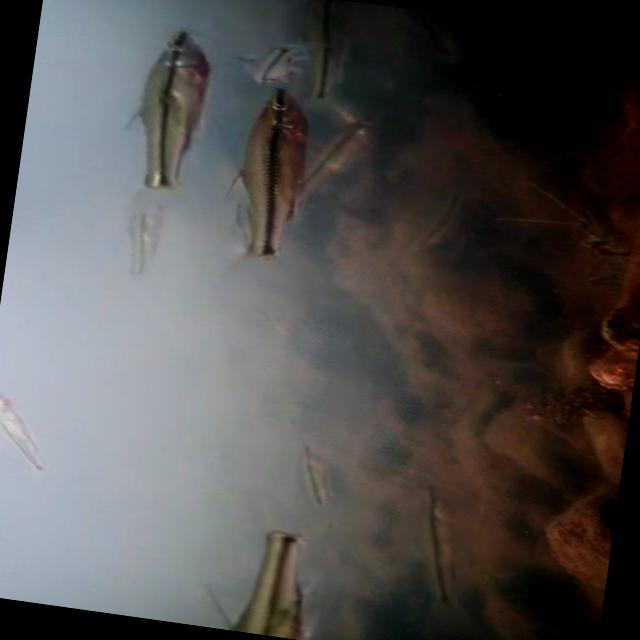Cakil Baligi: (201, 82, 322, 304), (106, 20, 216, 221)
